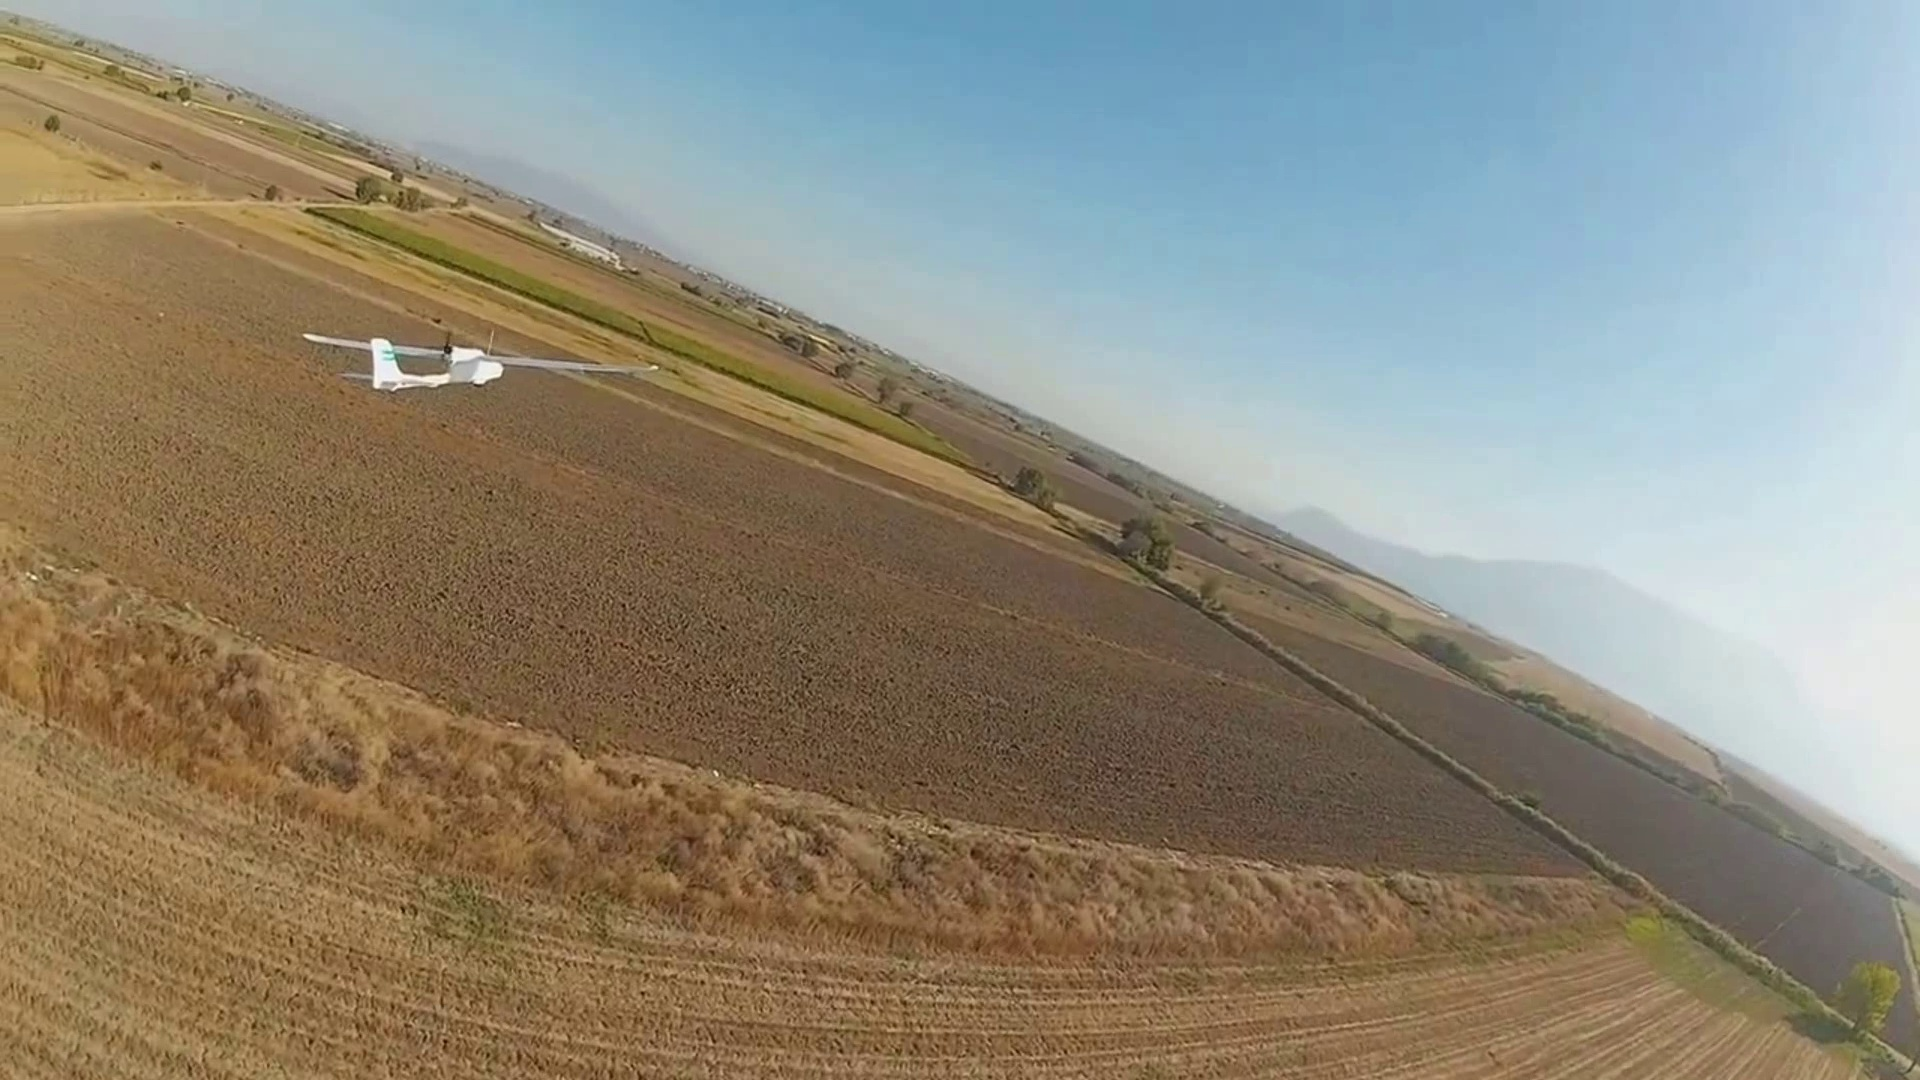airplane: (299, 331, 506, 392)
